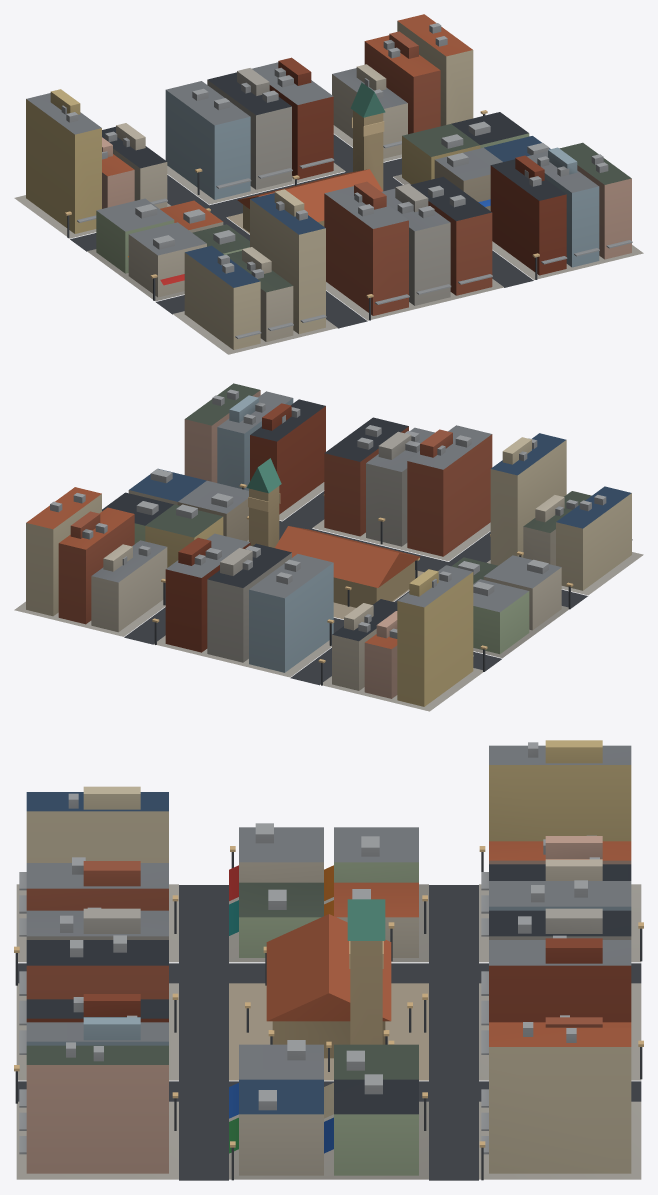
The model's file is district_market_square.fbx.
3 views of the same model, one above another, from view 1: azimuth 30°, elevation 25°; view 2: azimuth 150°, elevation 25°; view 3: azimuth 270°, elevation 25° (orthographic). The views are drawn at different scales.
Visible parts, largest first — view 1: district_market_square; view 2: district_market_square; view 3: district_market_square.
Part boxes in pixels (x1,y1,x2,y2): district_market_square: (14, 14, 643, 354); district_market_square: (14, 383, 643, 711); district_market_square: (14, 740, 643, 1180).
Size of the model in its own units: 113 by 30.15 by 101.
